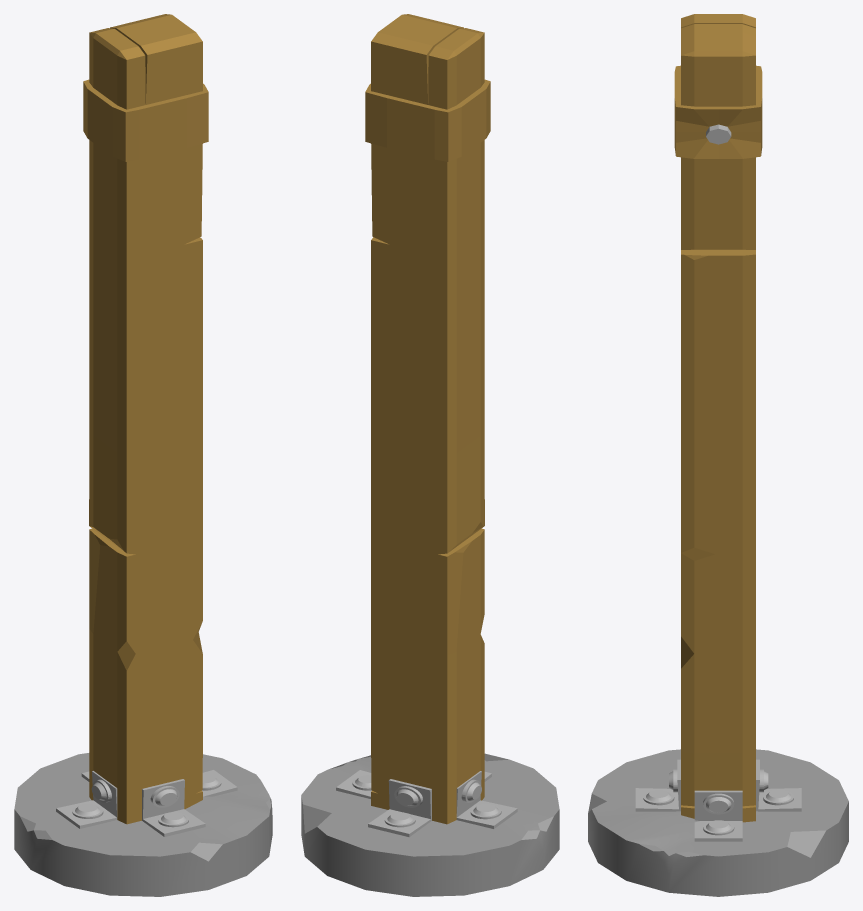
3 renders of one model, left to right at view 1: azimuth 30°, elevation 25°; view 2: azimuth 150°, elevation 25°; view 3: azimuth 270°, elevation 25°, orthographic.
Parts seen in each view (by area): view 1: Cube.014, Circle.017, Plane.015, Plane.016, Plane.017; view 2: Cube.014, Circle.017, Plane.014, Plane.016, Plane.017; view 3: Cube.014, Circle.017, Plane.017, Plane.014, Plane.015.
Part boxes in pixels (box(x1,y1,x2,y2)): Cube.014: box(83, 14, 208, 824); Circle.017: box(14, 753, 272, 896); Plane.015: box(142, 779, 205, 836); Plane.016: box(56, 771, 117, 828); Plane.017: box(202, 770, 237, 796); Cube.014: box(365, 14, 490, 824); Circle.017: box(301, 753, 559, 896); Plane.014: box(368, 779, 431, 837); Plane.016: box(456, 771, 517, 828); Plane.017: box(336, 770, 371, 798); Cube.014: box(674, 14, 762, 822); Circle.017: box(588, 749, 848, 896); Plane.017: box(694, 790, 742, 841); Plane.014: box(756, 759, 801, 811); Plane.015: box(635, 759, 680, 811).
Size of the model in its own units: 115 by 394 by 115.
